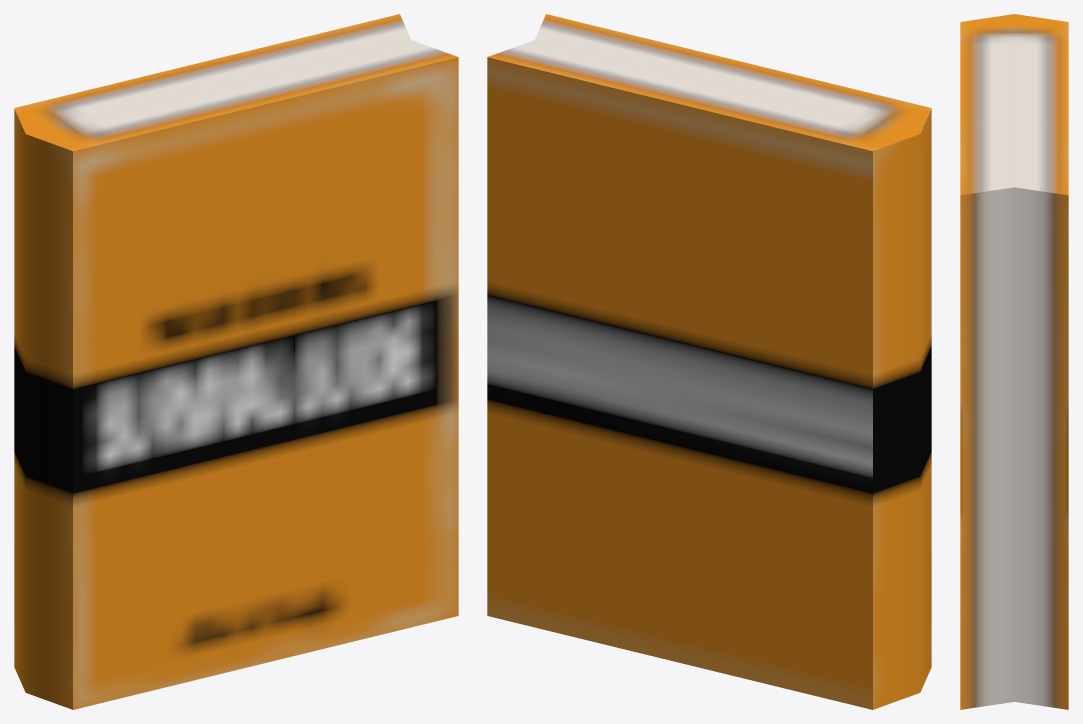
Rendered from TNP0110009.FBX.
The picture shows the model from 3 angles, left to right: view 1: azimuth 30°, elevation 25°; view 2: azimuth 150°, elevation 25°; view 3: azimuth 270°, elevation 25°; orthographic projection. The views are drawn at different scales.
Visible parts, largest first — view 1: smTNP0110009; view 2: smTNP0110009; view 3: smTNP0110009.
Boxes of the visible parts, x1,y1,x2,y2 form: smTNP0110009: (14,14,458,709); smTNP0110009: (487,14,931,709); smTNP0110009: (960,14,1068,709).
Size of the model in its own units: 0.1976 by 0.2613 by 0.05.
1 material, 1 textured.
